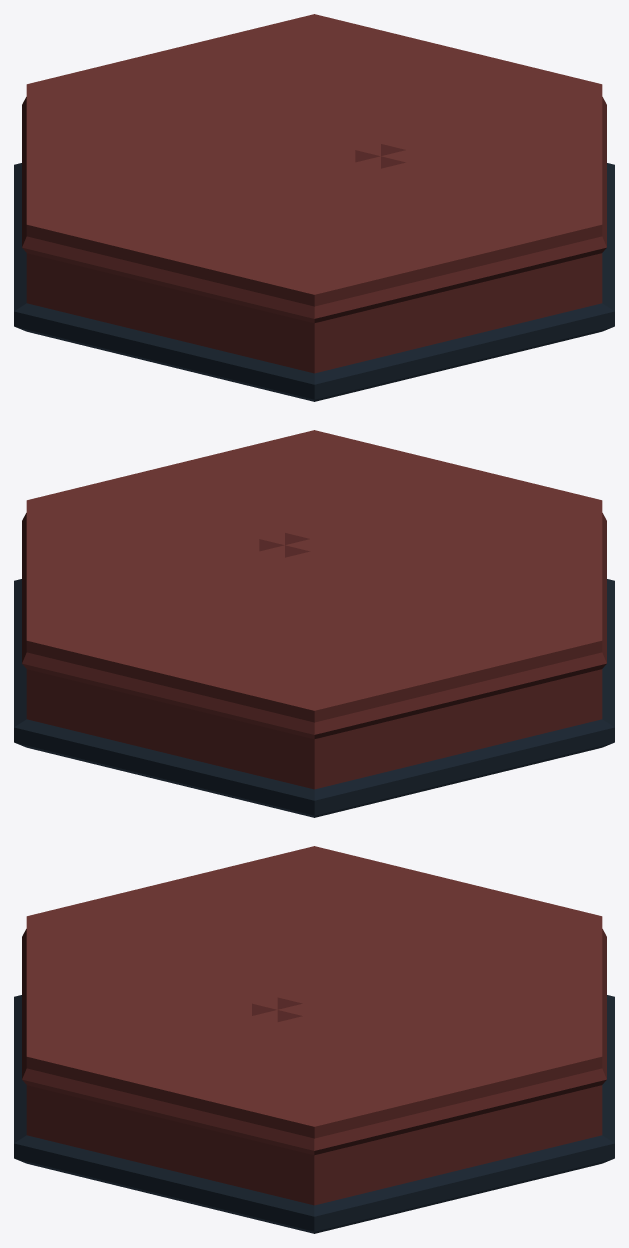
The model's file is HexTile_Dirt.fbx.
3 renders of one model, top to bottom at view 1: azimuth 30°, elevation 25°; view 2: azimuth 150°, elevation 25°; view 3: azimuth 270°, elevation 25°, orthographic.
Parts seen in each view (by area): view 1: HexTile_Dirt; view 2: HexTile_Dirt; view 3: HexTile_Dirt.
Boxes of the visible parts, left/top/right/bottom form: HexTile_Dirt: left=14, top=14, right=614, bottom=401; HexTile_Dirt: left=14, top=430, right=614, bottom=817; HexTile_Dirt: left=14, top=846, right=614, bottom=1233.
Size of the model in its own units: 1.88 by 0.32 by 1.63.
